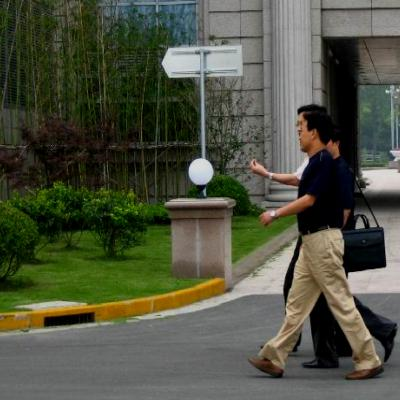ped: (251, 113, 384, 381)
